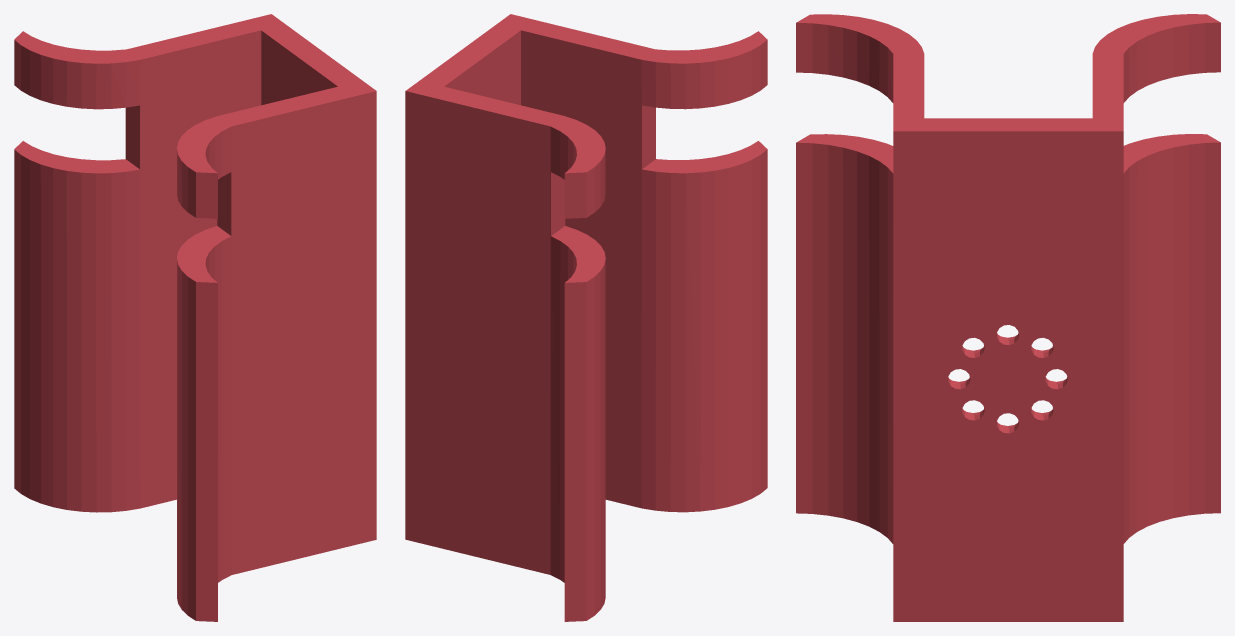
Rendered from WobbleGoalHolder.glb.
3 renders of one model, left to right at view 1: azimuth 30°, elevation 25°; view 2: azimuth 150°, elevation 25°; view 3: azimuth 270°, elevation 25°, orthographic. The views are drawn at different scales.
Bounding box in the file's own units: 1.16 × 2.26 × 1.77.
